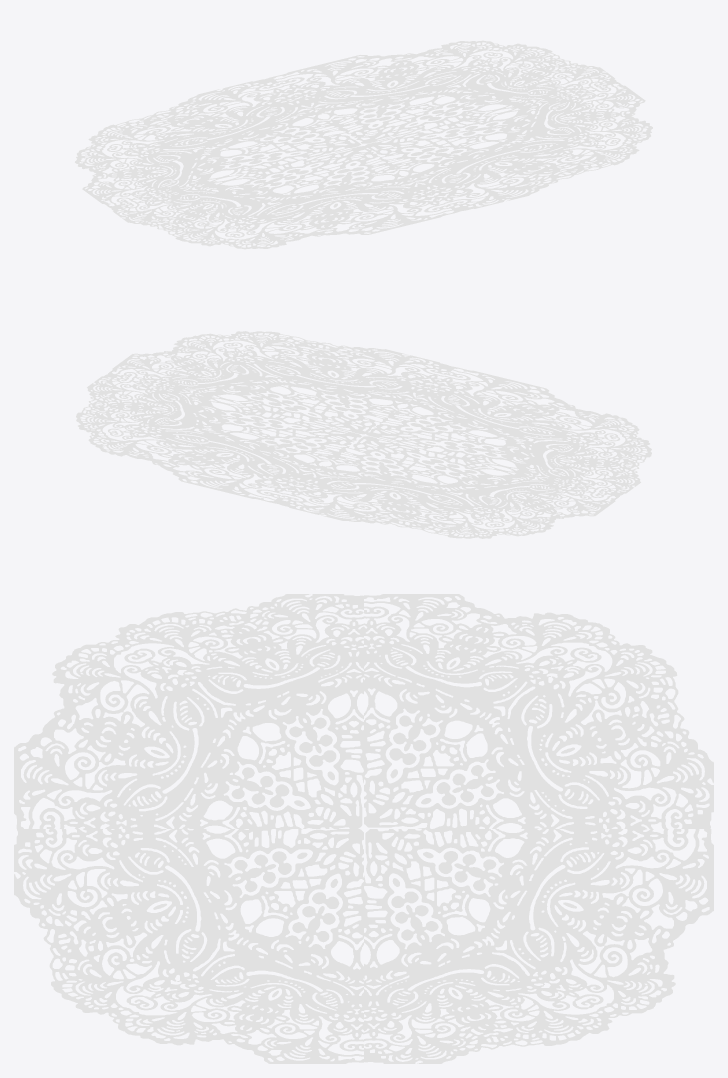
File: Placemat.fbx
3 renders of one model, top to bottom at view 1: azimuth 30°, elevation 25°; view 2: azimuth 150°, elevation 25°; view 3: azimuth 270°, elevation 25°, orthographic. The views are drawn at different scales.
Parts seen in each view (by area): view 1: Placemat.000; view 2: Placemat.000; view 3: Placemat.000.
Part boxes in pixels (left/top/right/bottom): Placemat.000: left=75, top=40, right=652, bottom=249; Placemat.000: left=76, top=331, right=651, bottom=538; Placemat.000: left=14, top=594, right=713, bottom=1063.
Size of the model in its own units: 240 by 2.46e-05 by 151.
